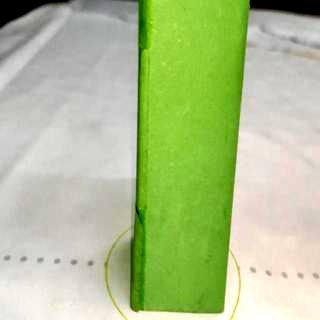greenbox: (126, 0, 255, 314)
